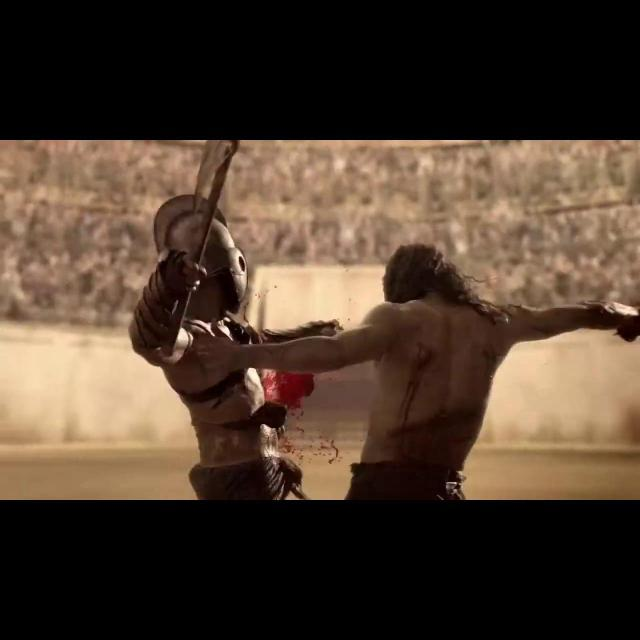blood: (260, 370, 314, 465), (312, 439, 342, 464)
